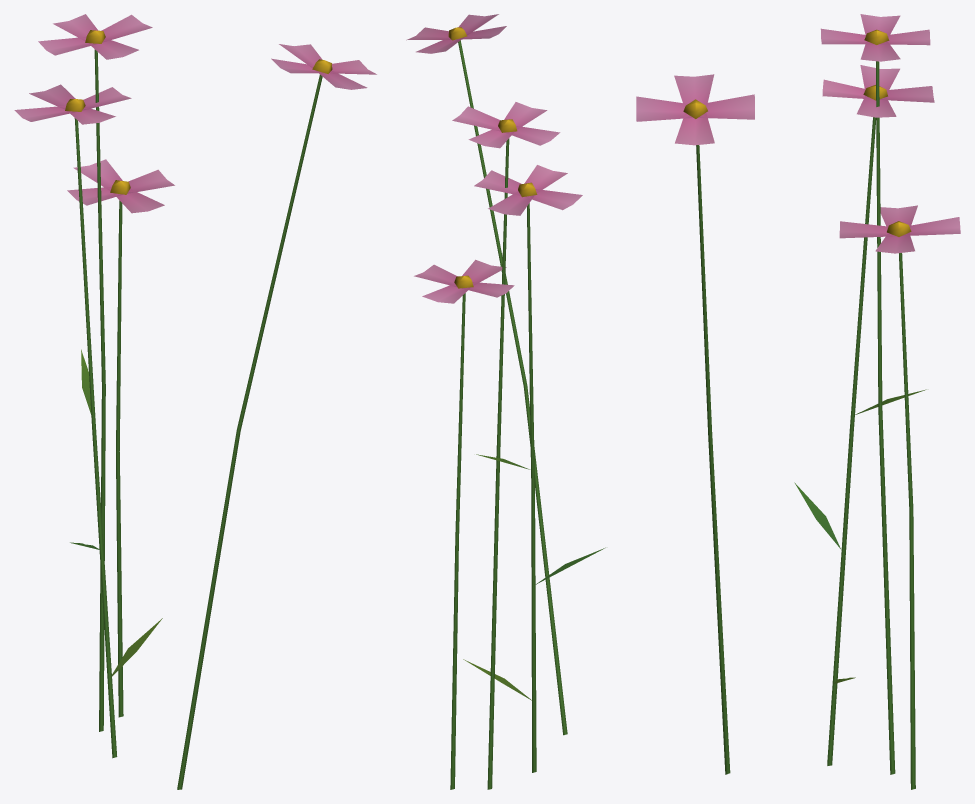
The model's file is flower-cosmos-b.lod2.glb.
3 views of the same model, side by side, from view 1: azimuth 30°, elevation 25°; view 2: azimuth 150°, elevation 25°; view 3: azimuth 270°, elevation 25° (orthographic). The views are drawn at different scales.
Visible parts, largest first — view 1: flower-cosmos-b.lod2; view 2: flower-cosmos-b.lod2; view 3: flower-cosmos-b.lod2.
Boxes of the visible parts, left/top/right/bottom form: flower-cosmos-b.lod2: left=14, top=14, right=376, bottom=789; flower-cosmos-b.lod2: left=406, top=14, right=605, bottom=789; flower-cosmos-b.lod2: left=636, top=14, right=960, bottom=789.
Size of the model in its own units: 0.2607 by 0.6895 by 0.2729.
